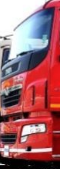truck: (1, 1, 59, 167)
